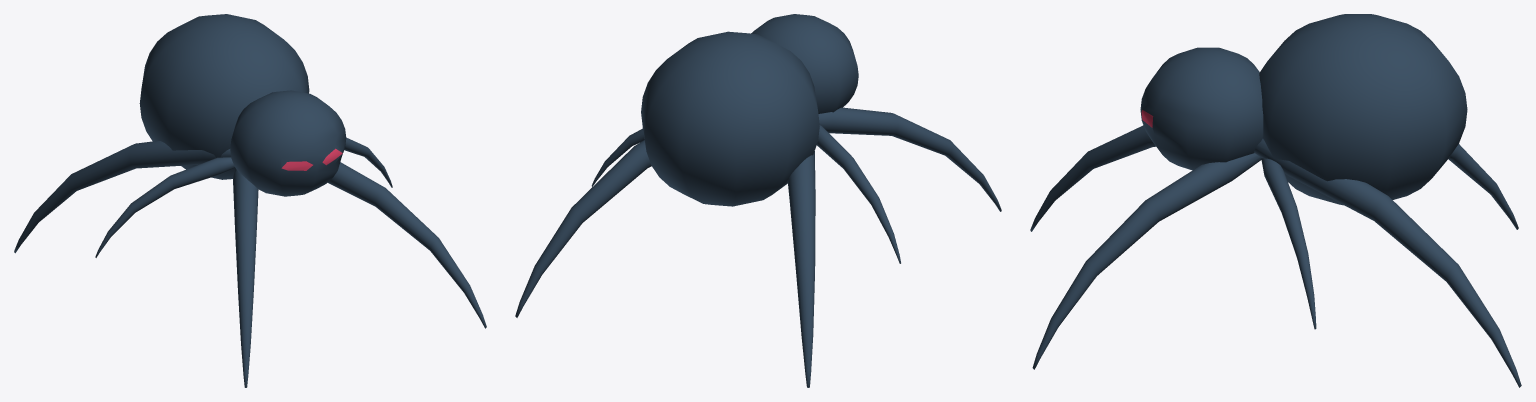
File: spider.fbx
The picture shows the model from 3 angles, left to right: view 1: azimuth 30°, elevation 25°; view 2: azimuth 150°, elevation 25°; view 3: azimuth 270°, elevation 25°; orthographic projection. The views are drawn at different scales.
Visible parts, largest first — view 1: Spider; view 2: Spider; view 3: Spider.
Part boxes in pixels (x1=…): Spider: x1=14, y1=14, x2=486, y2=387; Spider: x1=515, y1=14, x2=1001, y2=387; Spider: x1=1030, y1=14, x2=1521, y2=387.
Size of the model in its own units: 244 by 194 by 299.
